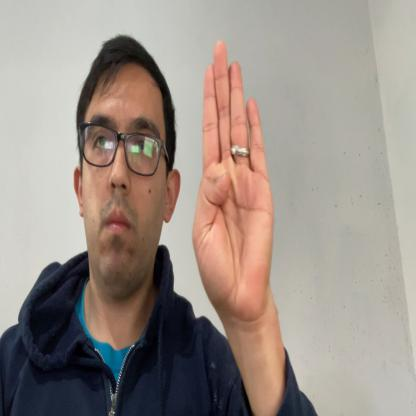B: (192, 38, 275, 322)
